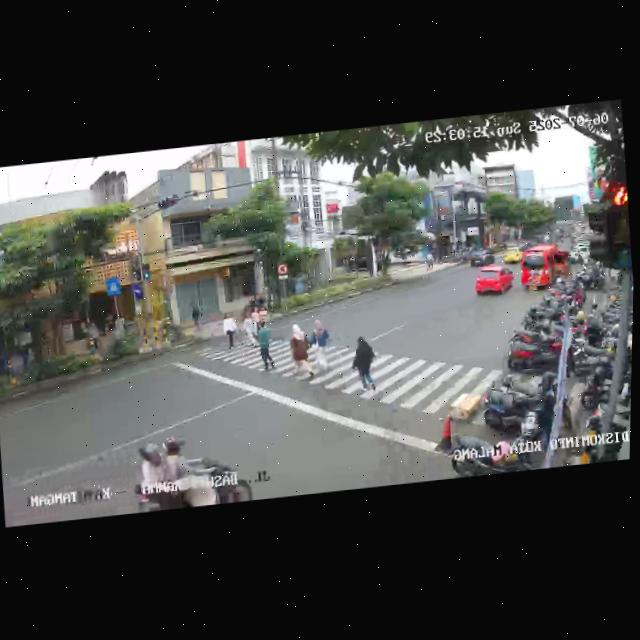car: (517, 244, 571, 293), (471, 263, 515, 301), (465, 246, 493, 267)
motorcycle: (135, 428, 256, 512)
person: (349, 333, 380, 396), (285, 321, 314, 382), (306, 317, 333, 373), (254, 315, 277, 371), (221, 310, 240, 350), (241, 310, 258, 350), (251, 307, 261, 330), (258, 305, 268, 322)
